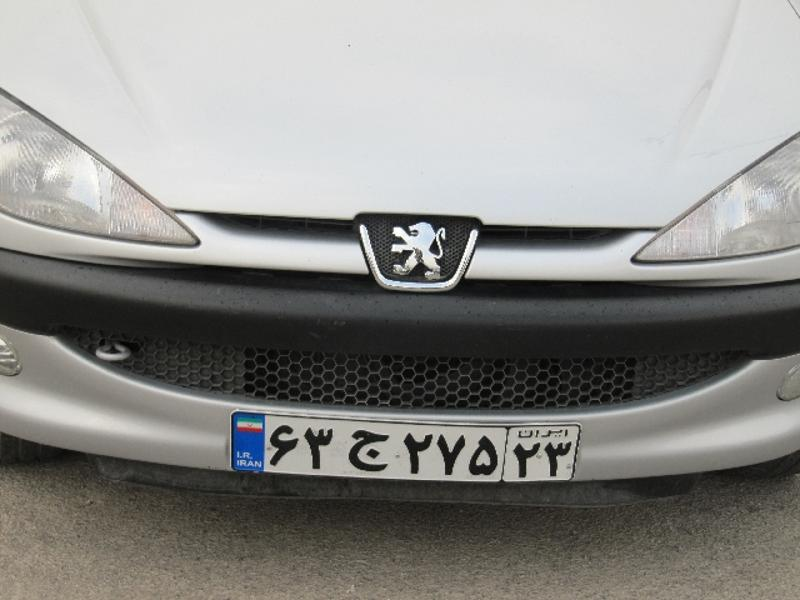Plate: (235, 411, 579, 483)
